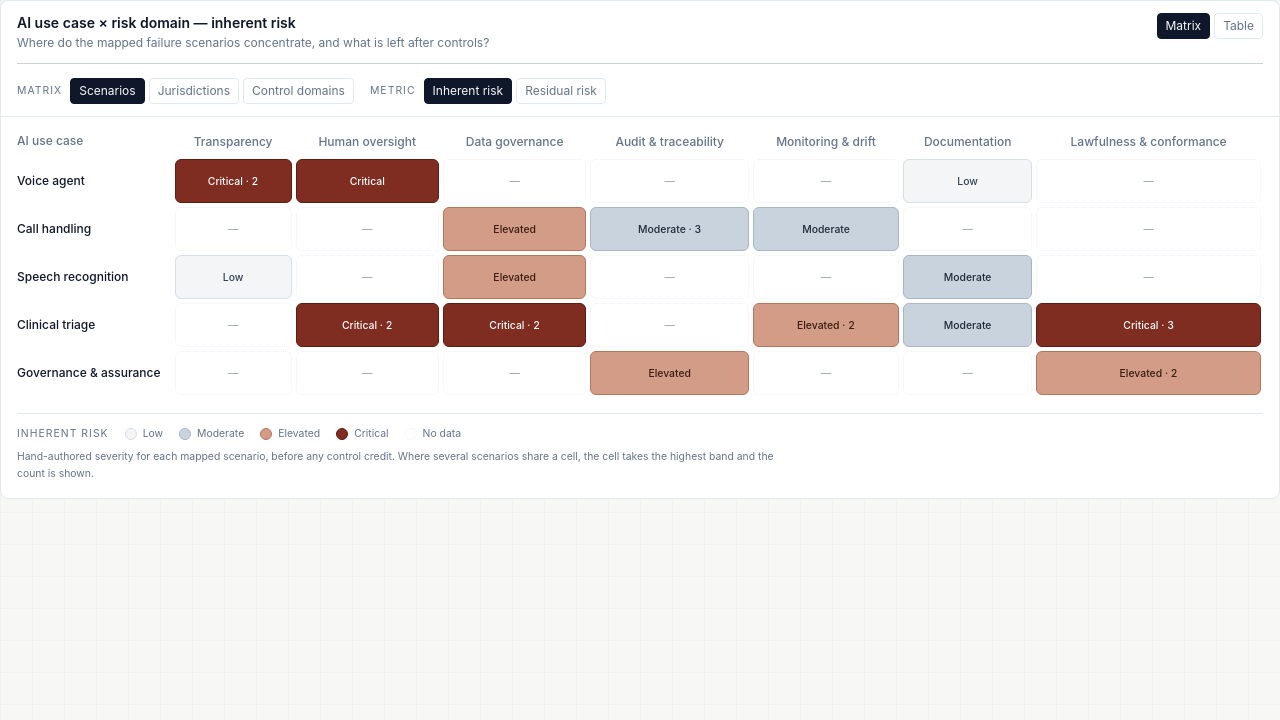
Scenario: RiskMatrix › names the active matrix and metric in the heading
Expected: the heading reads "AI use case × risk domain — inherent risk", [17, 14, 296, 31]
Click the button "Residual risk": x=561, y=91 [516, 78, 606, 104]
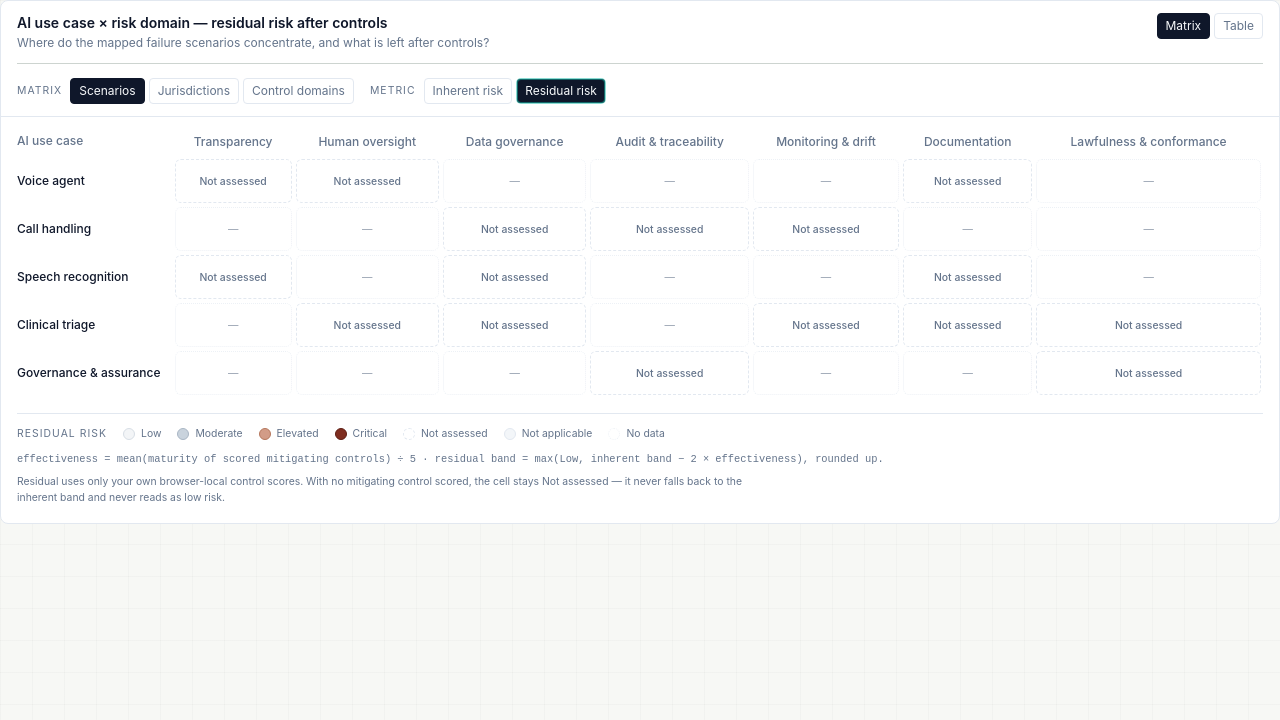
Expected: the heading shows "residual risk after controls", [211, 14, 388, 31]
